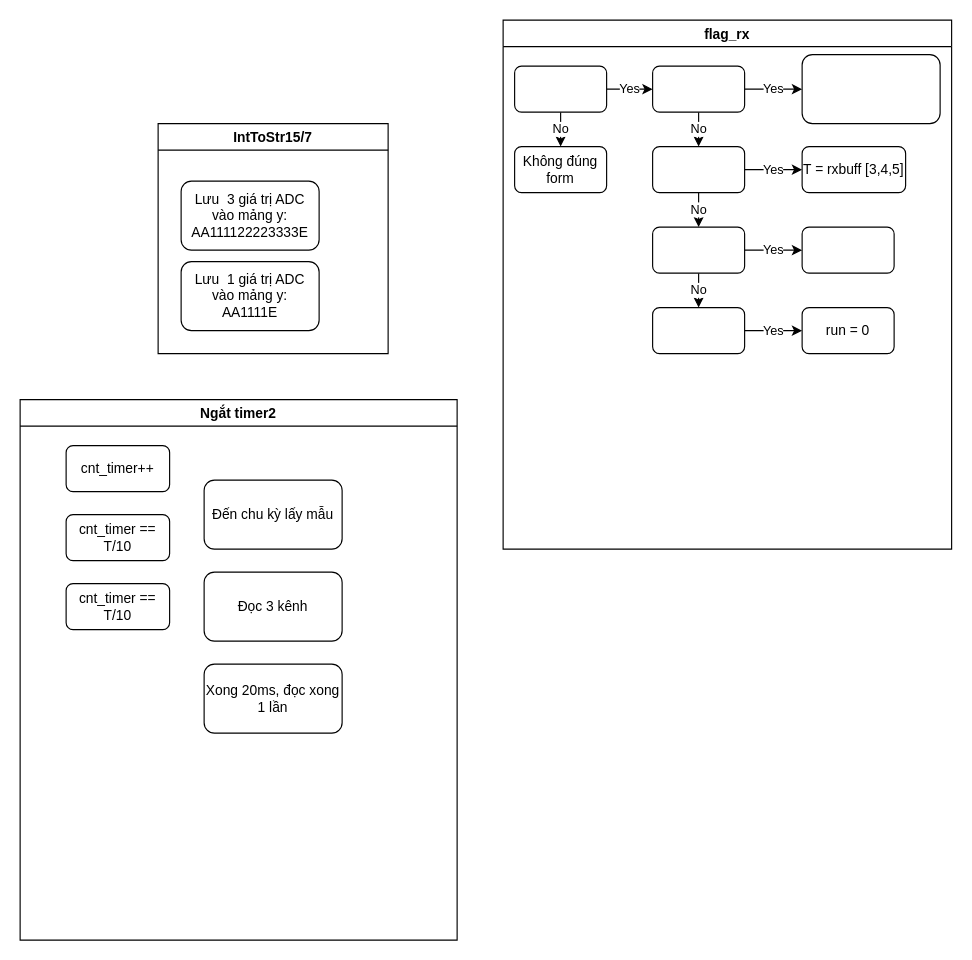
The diagram is 972 pixels wide and 960 high, and some of its shapes have lost their labels. Each missing label, with the centre of its shape:
run = 1: the point at 847,249
rxbuff [2] == 0: the point at 698,88
rxbuff [2] == 1: the point at 698,169
rxbuff [2] == 2: the point at 698,249
rxbuff [2] == 3: the point at 698,330
rxbuffer [x], j = 0 3 - ch 3, j = 2 4 - ch 2, j = 1 5 - ch 1, j = 0: the point at 870,88
Đúng form: the point at 560,88
